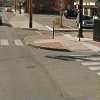crosswalk: (69, 54, 100, 76), (0, 38, 23, 45)
